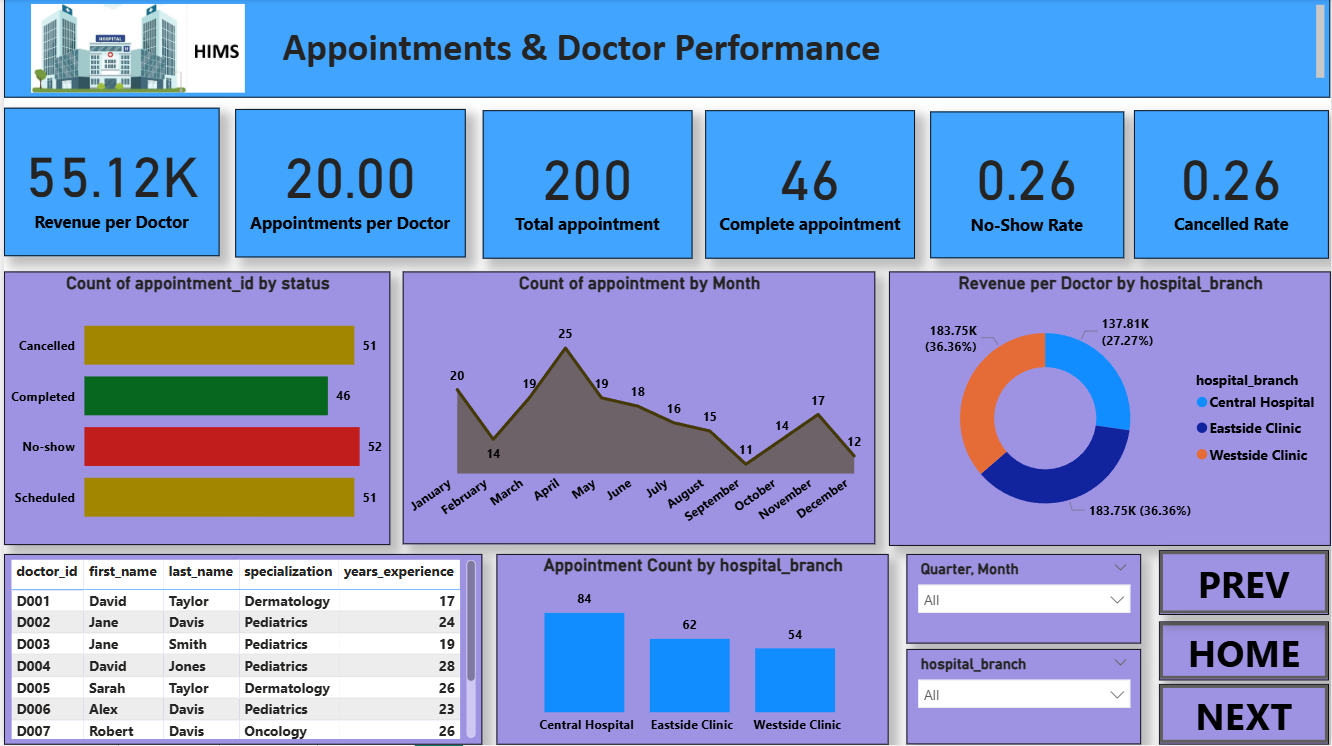

The page's visual inventory and layout, read from the dashboard file:
{"tool":"powerbi","page":{"name":"Doctor","canvas":[1280,720],"ordinal":1},"visuals":[{"type":"card","fields":{"Values":["appointments.Total appointment"]},"box":[461.7,107.6,202.5,143],"z":0},{"type":"textbox","box":[0,0,1280.3,95.4],"z":1000},{"type":"image","box":[8.6,0,242.1,95.4],"z":2000},{"type":"card","fields":{"Values":["appointments.Complete appointment"]},"box":[677,107.6,202.5,143],"z":3000},{"type":"card","fields":{"Values":["appointments.No-Show Rate"]},"box":[893.7,109.1,186.9,141.6],"z":4000},{"type":"card","fields":{"Values":["appointments.Cancelled Rate"]},"box":[1090.5,107.6,188.4,143],"z":5000},{"type":"clusteredBarChart","fields":{"Category":["appointments.status"],"Y":["CountNonNull(appointments.appointment_id)"]},"box":[0,263,372.8,264.2],"z":6000},{"type":"lineChart","title":"Count of appointment by Month","fields":{"Category":["appointments.appointment_date.Variation.Date Hierarchy.Month"],"Y":["CountNonNull(appointments.appointment_id)"]},"box":[385.2,263.4,456,263.4],"z":7000},{"type":"donutChart","fields":{"Category":["doctors.hospital_branch"],"Y":["doctors.Revenue per Doctor"]},"box":[854,263.4,426.3,264.8],"z":8000},{"type":"tableEx","fields":{"Values":["doctors.doctor_id","doctors.first_name","doctors.last_name","doctors.specialization","doctors.years_experience"]},"box":[0,535.3,461.7,184.1],"z":9000},{"type":"card","fields":{"Values":["doctors.Revenue per Doctor"]},"box":[0,104.8,208.2,143],"z":10000},{"type":"card","fields":{"Values":["doctors.Appointments per Doctor"]},"box":[223.8,106.2,222.4,143],"z":11000},{"type":"clusteredColumnChart","fields":{"Y":["doctors.Appointment Count"],"Category":["doctors.hospital_branch"]},"box":[475.9,535.3,378.1,184.1],"z":12000},{"type":"slicer","fields":{"Values":["appointments.appointment_date.Variation.Date Hierarchy.Quarter","appointments.appointment_date.Variation.Date Hierarchy.Month"]},"box":[871,535.3,226.6,86.4],"z":13000},{"type":"slicer","fields":{"Values":["doctors.hospital_branch"]},"box":[871,627.9,226.6,92.1],"z":14000},{"type":"actionButton","title":"HOME","box":[1114.6,600.5,164.3,56.6],"z":15000},{"type":"actionButton","title":"HOME","box":[1114.6,532.5,164.3,62.3],"z":16000},{"type":"actionButton","title":"HOME","box":[1114.6,661.4,164.3,58.1],"z":17000}]}

Visuals, with their boxes in screenshot pixels (x1, y1, x2, y2), scaled from the page's 1280x720 canvas onto the 1332x746 screenshot:
card - appointments.Total appointment: rect(480, 111, 691, 260)
textbox: rect(0, 0, 1331, 99)
image: rect(9, 0, 261, 99)
card - appointments.Complete appointment: rect(705, 111, 915, 260)
card - appointments.No-Show Rate: rect(930, 113, 1124, 260)
card - appointments.Cancelled Rate: rect(1135, 111, 1331, 260)
clusteredBarChart - appointments.status x CountNonNull(appointments.appointment_id): rect(0, 272, 388, 546)
"Count of appointment by Month" lineChart: rect(401, 273, 875, 546)
donutChart - doctors.hospital_branch x doctors.Revenue per Doctor: rect(889, 273, 1331, 547)
tableEx - doctors.doctor_id x doctors.first_name: rect(0, 555, 480, 745)
card - doctors.Revenue per Doctor: rect(0, 109, 217, 257)
card - doctors.Appointments per Doctor: rect(233, 110, 464, 258)
clusteredColumnChart - doctors.Appointment Count x doctors.hospital_branch: rect(495, 555, 889, 745)
slicer - appointments.appointment_date.Variation.Date Hierarchy.Quarter x appointments.appointment_date.Variation.Date Hierarchy.Month: rect(906, 555, 1142, 644)
slicer - doctors.hospital_branch: rect(906, 651, 1142, 745)
"HOME" actionButton: rect(1160, 622, 1331, 681)
"HOME" actionButton: rect(1160, 552, 1331, 616)
"HOME" actionButton: rect(1160, 685, 1331, 745)
